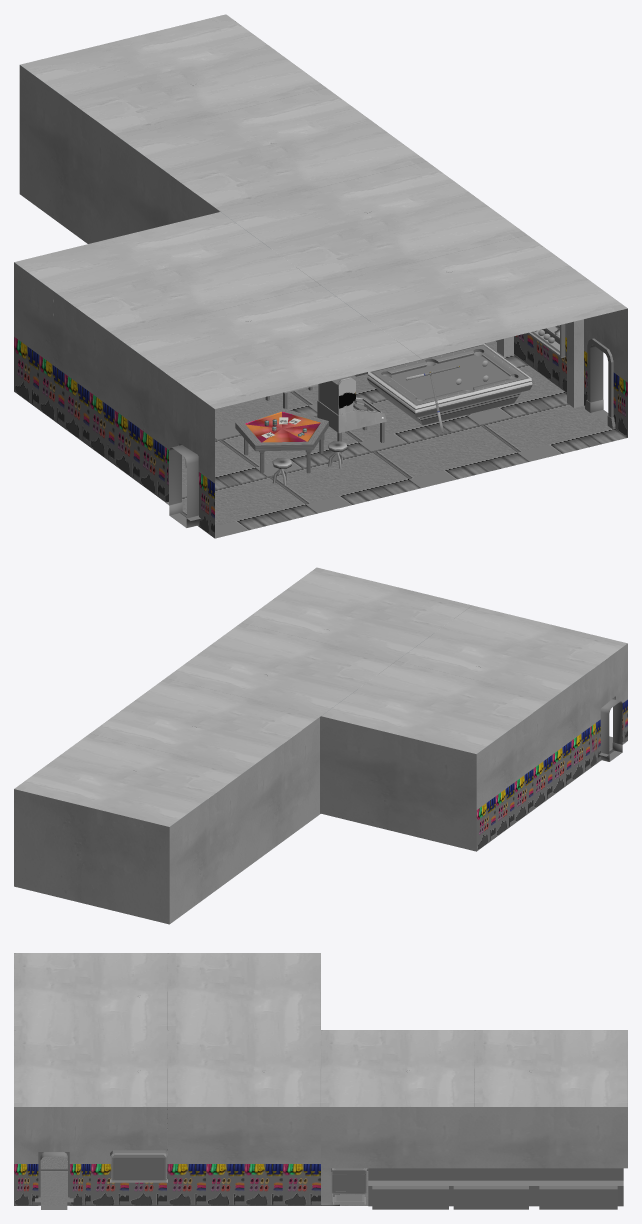
File: MSH_Game_room_L3_R2_optimized.fbx
3 renders of one model, top to bottom at view 1: azimuth 30°, elevation 25°; view 2: azimuth 150°, elevation 25°; view 3: azimuth 270°, elevation 25°, orthographic. The views are drawn at different scales.
Parts seen in each view (by area): view 1: lightmap0, lightmap1, lightmap-1; view 2: lightmap0, lightmap-1; view 3: lightmap0, lightmap1.
Boxes of the visible parts, x1,y1,x2,y2 form: lightmap0: (14,14,627,538); lightmap1: (53,84,565,485); lightmap-1: (169,345,608,527); lightmap0: (14,567,627,924); lightmap-1: (600,699,622,761); lightmap0: (14,953,627,1205); lightmap1: (110,995,623,1209).
Size of the model in its own units: 20.61 by 5.96 by 33.03.
